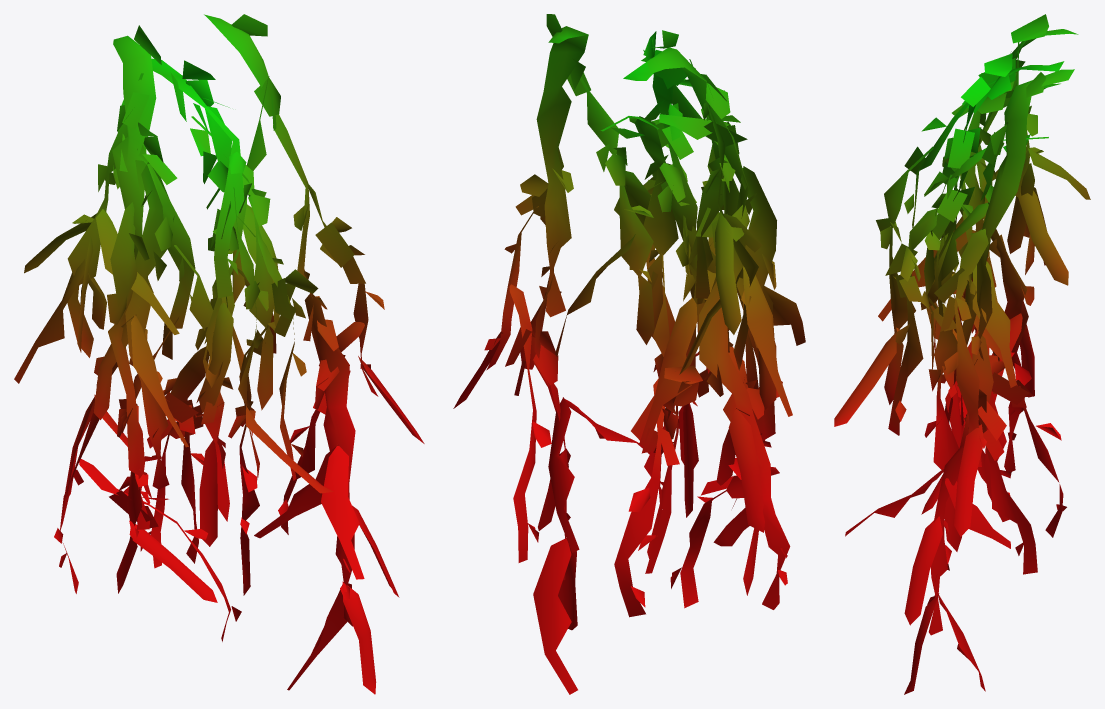
File: Var4_LOD5.fbx
The picture shows the model from 3 angles, left to right: view 1: azimuth 30°, elevation 25°; view 2: azimuth 150°, elevation 25°; view 3: azimuth 270°, elevation 25°; orthographic projection. The views are drawn at different scales.
Visible parts, largest first — view 1: _rb71_Var4_LOD5; view 2: _rb71_Var4_LOD5; view 3: _rb71_Var4_LOD5.
Boxes of the visible parts, x1,y1,x2,y2 form: _rb71_Var4_LOD5: (14,14,424,694); _rb71_Var4_LOD5: (453,14,805,694); _rb71_Var4_LOD5: (834,14,1090,694).
Bounding box in the file's own units: 78.73 × 140 × 52.
